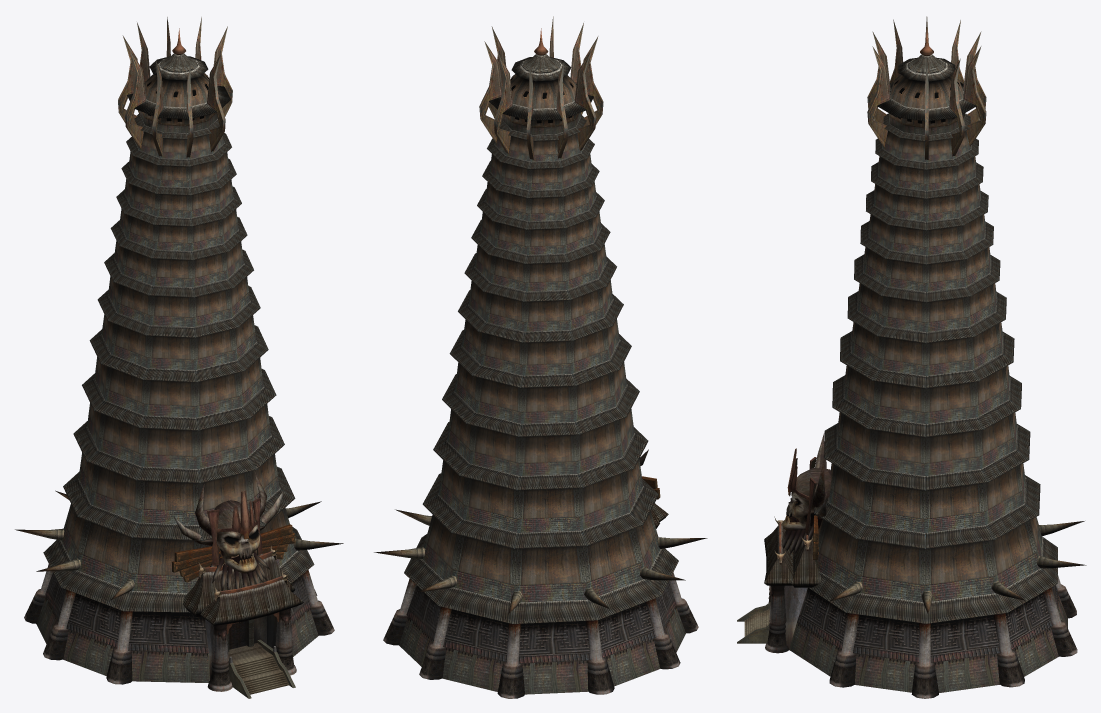
File: deviltowergate.fbx
The picture shows the model from 3 angles, left to right: view 1: azimuth 30°, elevation 25°; view 2: azimuth 150°, elevation 25°; view 3: azimuth 270°, elevation 25°; orthographic projection.
Visible parts, largest first — view 1: deviltowergate; view 2: deviltowergate; view 3: deviltowergate.
Part boxes in pixels (<box>): deviltowergate: <box>15,17,343,698</box>; deviltowergate: <box>374,16,707,698</box>; deviltowergate: <box>737,16,1086,698</box>.
Size of the model in its own units: 62.45 by 124 by 65.09.
